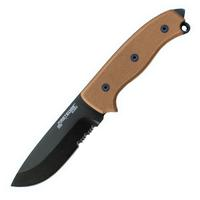knife: (9, 4, 190, 192)
